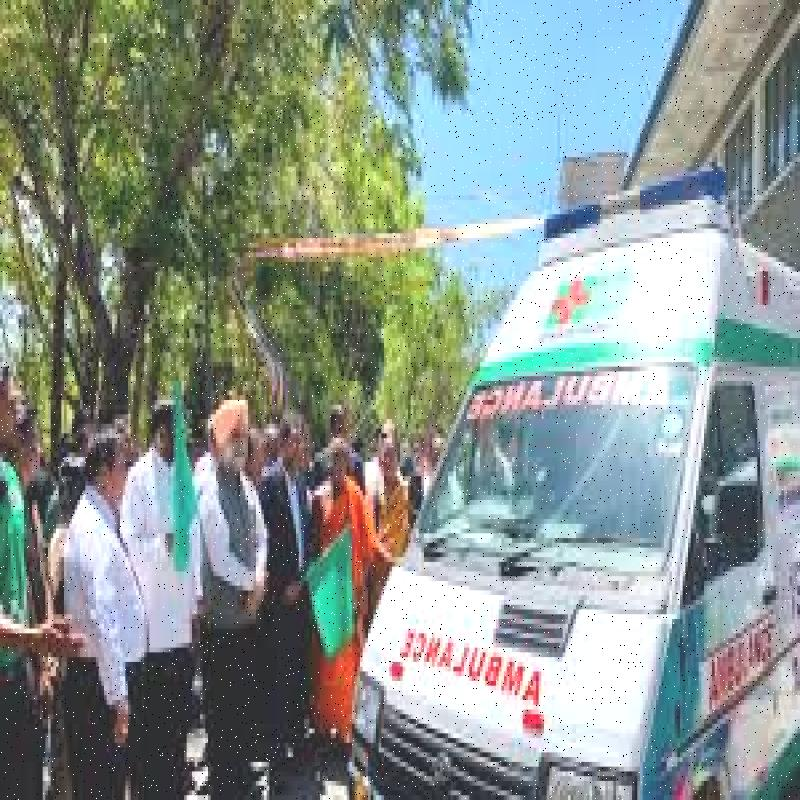AmbulanceSiren: (526, 171, 738, 239)
ambulance: (333, 134, 800, 800)
